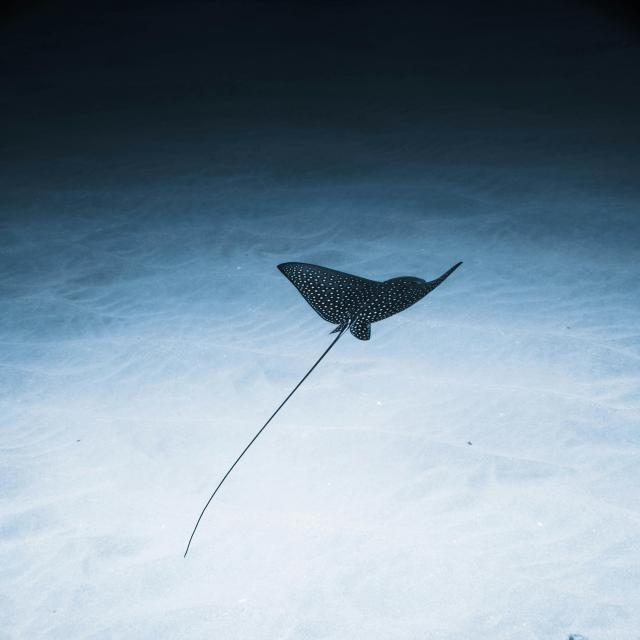stingray: (185, 261, 462, 555)
